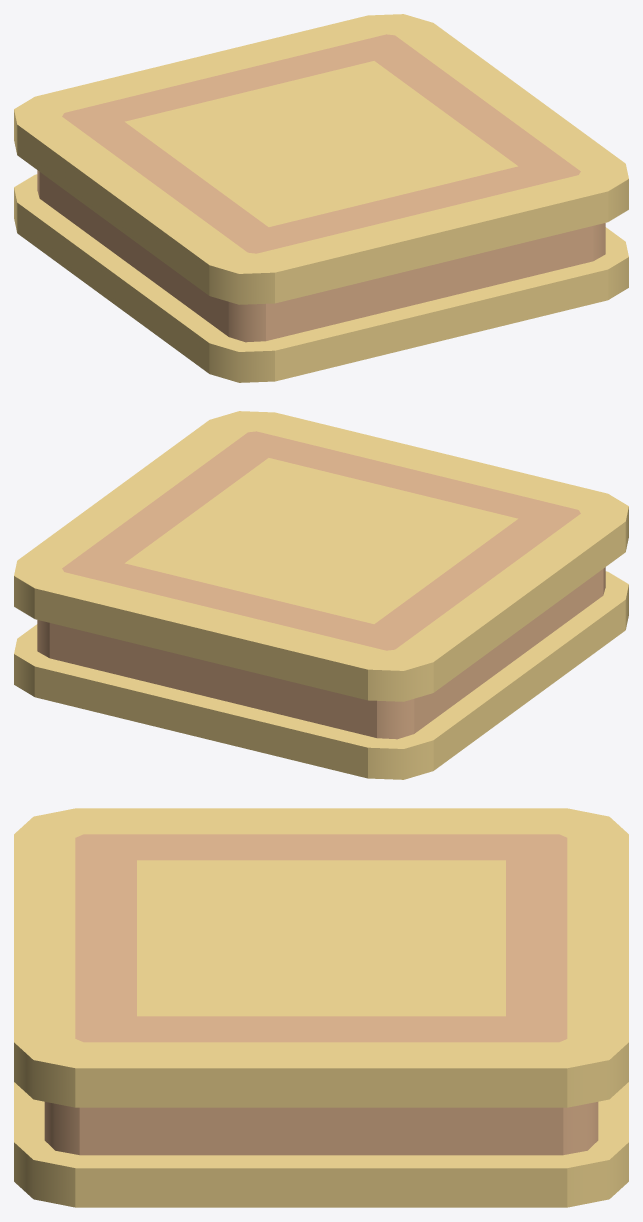
The picture shows the model from 3 angles, top to bottom: view 1: azimuth 30°, elevation 25°; view 2: azimuth 150°, elevation 25°; view 3: azimuth 270°, elevation 25°; orthographic projection. The views are drawn at different scales.
Visible parts, largest first — view 1: blockMoving; view 2: blockMoving; view 3: blockMoving.
Boxes of the visible parts, x1=… form: blockMoving: x1=14, y1=14, x2=628, y2=382; blockMoving: x1=14, y1=411, x2=628, y2=779; blockMoving: x1=14, y1=808, x2=628, y2=1207.
Bounding box in the file's own units: 1 × 0.25 × 1.
